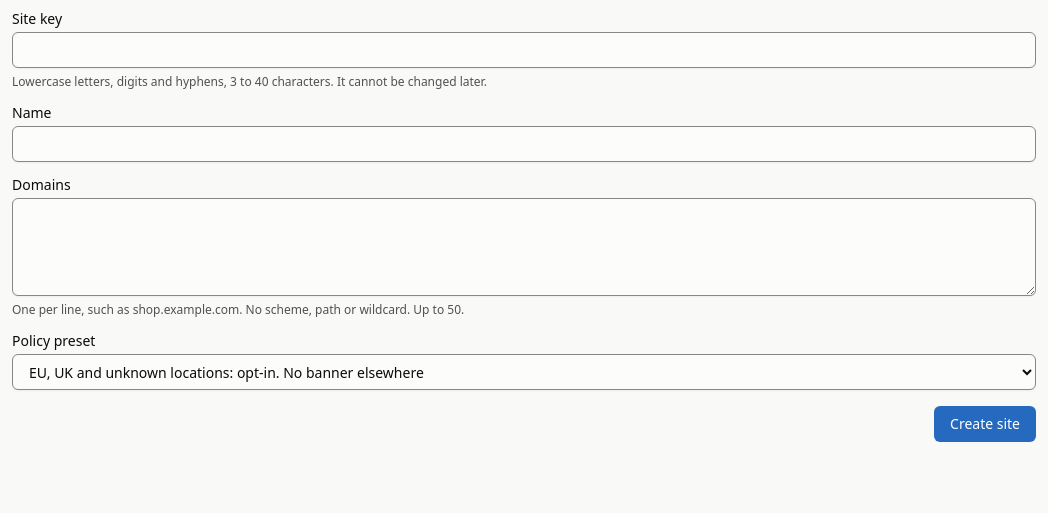
Test case: a failure that belongs to no field becomes a form-level message, cleared on the next try
The image size is (1048, 513).
Type "shop" into the field labelled "Site key".
click(524, 50); type("shop")  # box x1=12 y1=32 x2=1036 y2=68
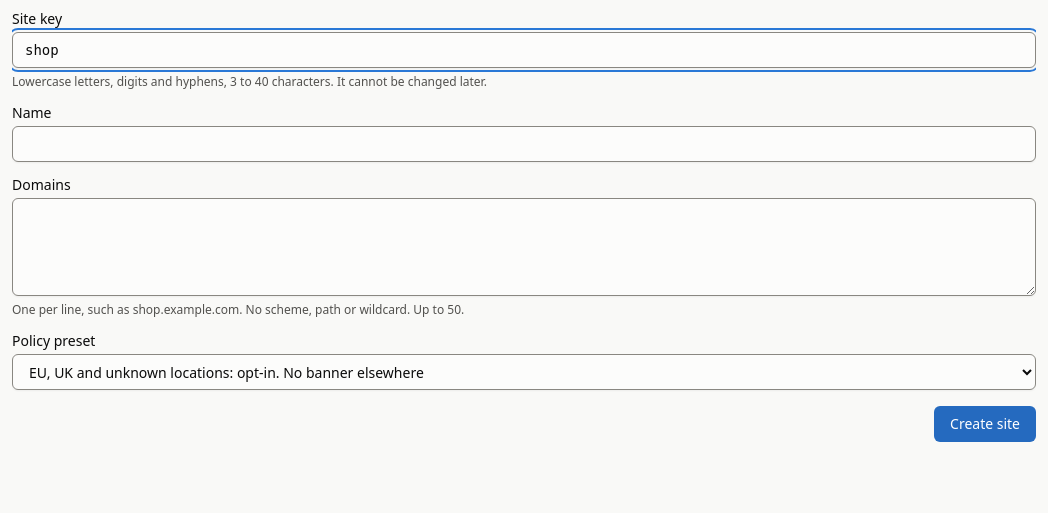
Type "Shop" into the field labelled "Name".
click(524, 144); type("Shop")  # box x1=12 y1=126 x2=1036 y2=162
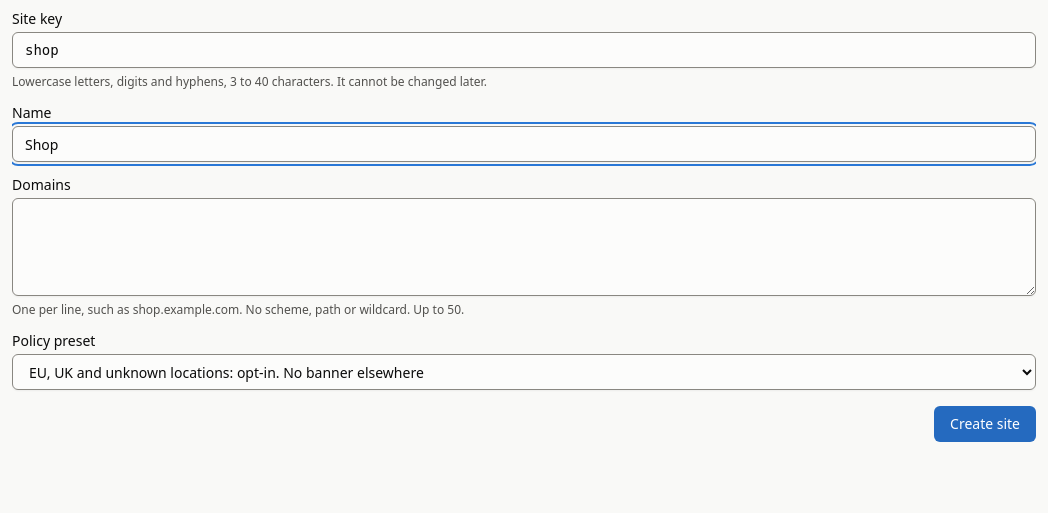
Type "shop.example.com" into the text box labelled "Domains".
click(524, 247); type("shop.example.com")  # box x1=12 y1=198 x2=1036 y2=296
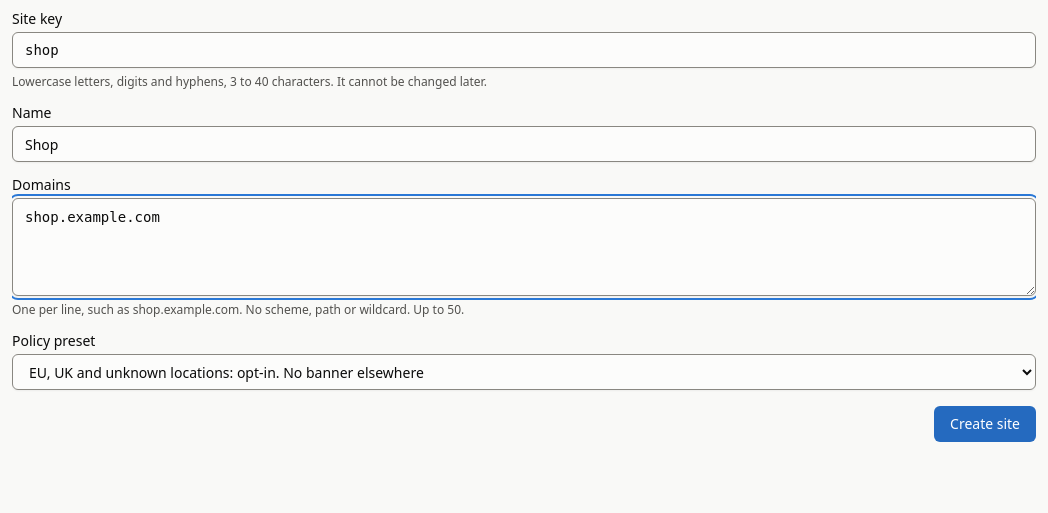
Click the button "Create site".
click(985, 424)  # box x1=934 y1=406 x2=1036 y2=442
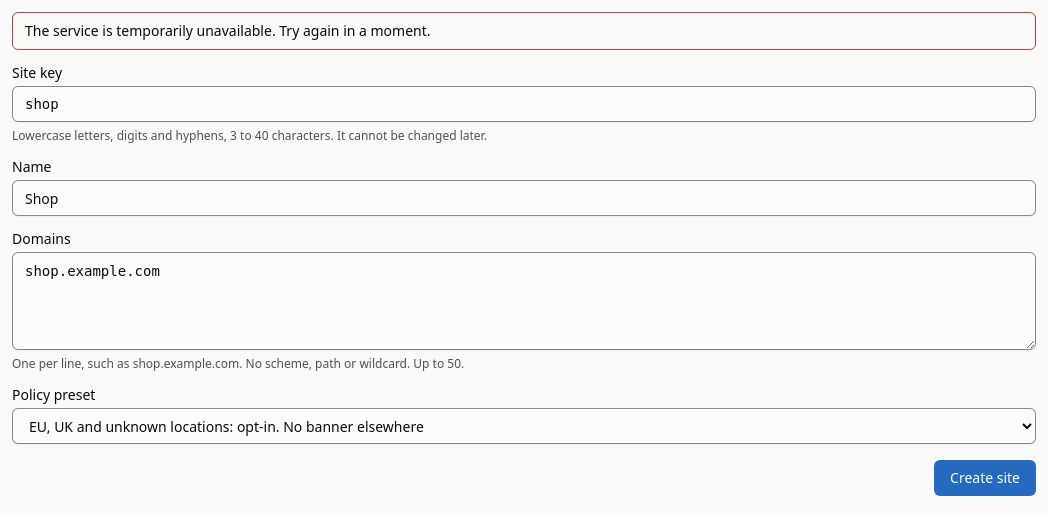
Expected: the message reads "The service is temporarily unavailable. Try again in a moment.", x1=25 y1=21 x2=430 y2=40
Click the button "Create site".
click(985, 478)  # box x1=934 y1=460 x2=1036 y2=496
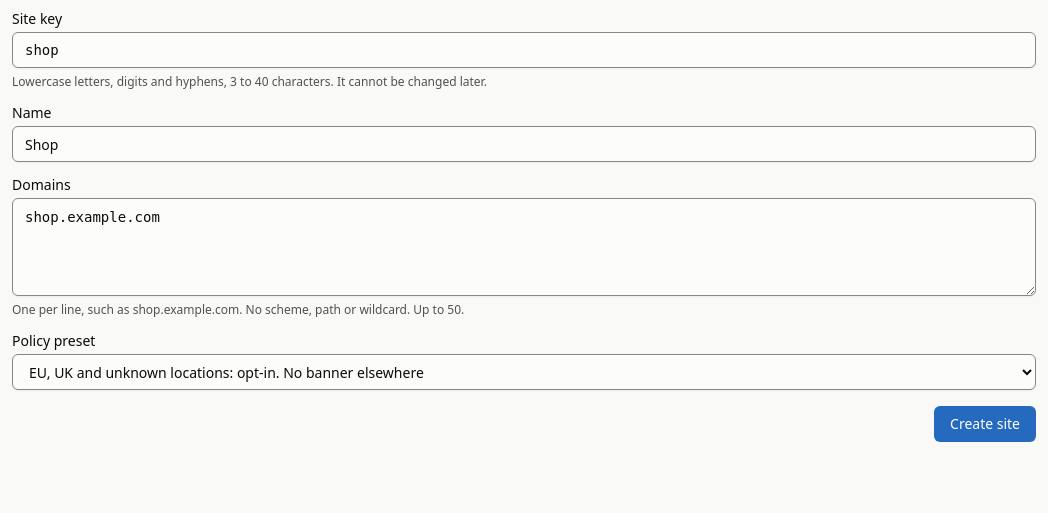
Expected: the message "The service is temporarily unavailable. Try again in a moment." is gone
